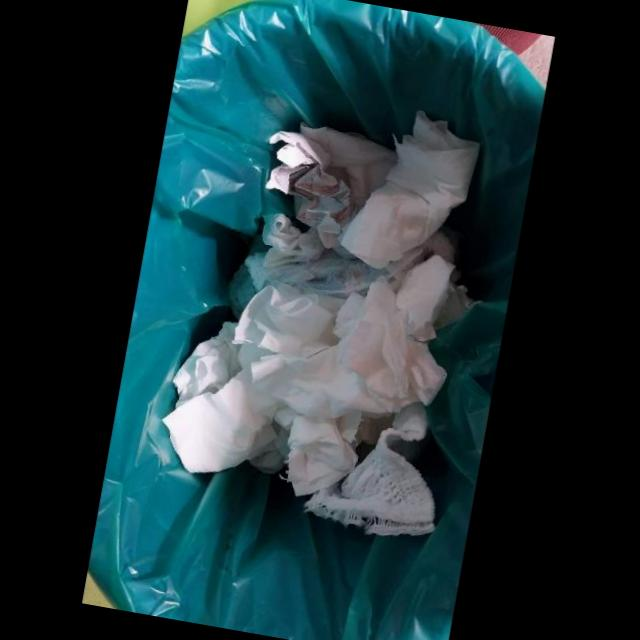giay: (251, 254, 456, 419), (337, 110, 480, 269), (162, 362, 279, 473), (266, 131, 357, 249), (233, 283, 341, 358), (172, 323, 242, 409), (286, 414, 357, 497)
